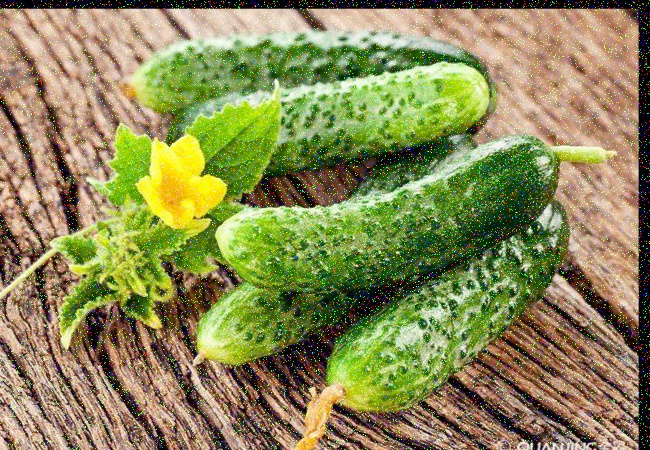cucumber: (341, 197, 565, 401), (222, 145, 550, 284)
cucumber_plant: (65, 81, 276, 321)
